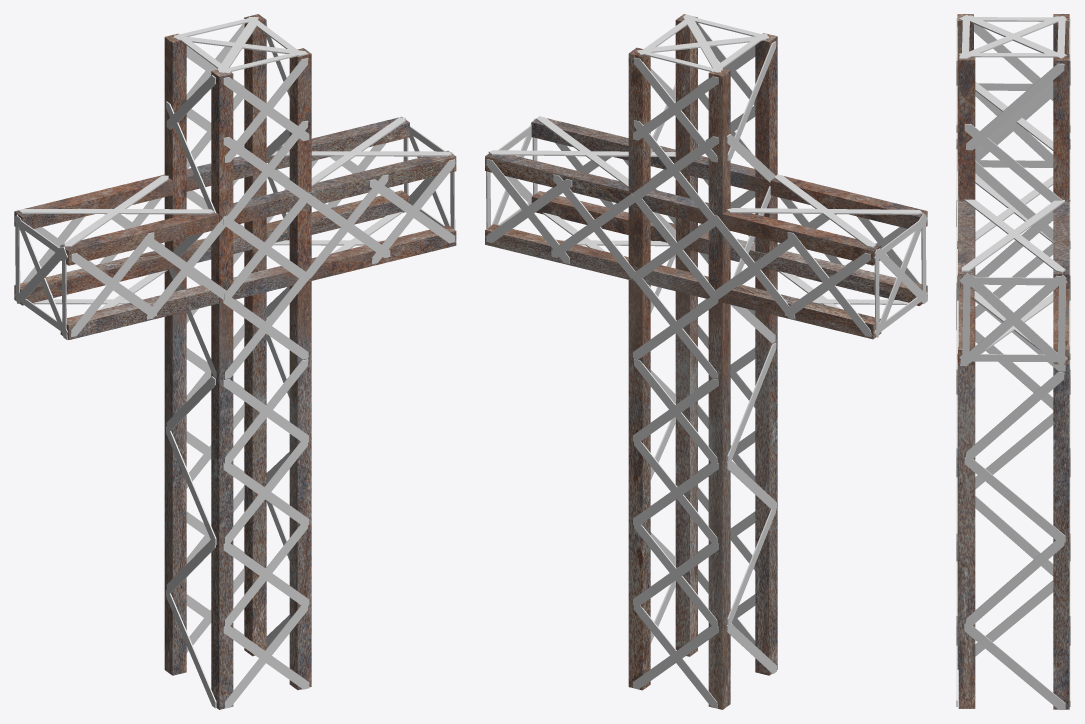
File: croceferro.fbx
The picture shows the model from 3 angles, left to right: view 1: azimuth 30°, elevation 25°; view 2: azimuth 150°, elevation 25°; view 3: azimuth 270°, elevation 25°; orthographic projection. The views are drawn at different scales.
Parts seen in each view (by area): view 1: Cube, Cube.001, Cube.003, Cube.002, Cube.005, Cube.007, Cube.004, Cube.006, Plane.027, Plane.032, Plane.020, Plane.087 (+28 smaller); view 2: Cube.001, Cube.002, Cube, Cube.003, Cube.004, Cube.006, Cube.005, Cube.007, Plane.003, Plane.040, Plane.016, Plane.014 (+29 smaller); view 3: Cube.003, Cube.002, Plane.073, Plane.071, Plane.074, Plane.072, Cube.005, Plane.060, Cube, Plane.059, Plane.077, Plane.076 (+35 smaller).
Boxes of the visible parts, bbox=[...] form: Cube: bbox=[211, 69, 233, 709]; Cube.001: bbox=[164, 33, 186, 675]; Cube.003: bbox=[289, 48, 311, 689]; Cube.002: bbox=[244, 14, 266, 656]; Cube.005: bbox=[60, 150, 456, 265]; Cube.007: bbox=[60, 225, 456, 339]; Cube.004: bbox=[14, 116, 409, 229]; Cube.006: bbox=[14, 190, 409, 305]; Plane.027: bbox=[224, 279, 307, 378]; Plane.032: bbox=[224, 605, 308, 708]; Plane.020: bbox=[224, 359, 308, 463]; Plane.087: bbox=[18, 209, 214, 214]; Cube.001: bbox=[708, 68, 730, 709]; Cube.002: bbox=[628, 47, 650, 690]; Cube: bbox=[755, 33, 777, 675]; Cube.003: bbox=[675, 14, 697, 656]; Cube.004: bbox=[485, 153, 881, 265]; Cube.006: bbox=[485, 224, 881, 339]; Cube.005: bbox=[531, 116, 927, 230]; Cube.007: bbox=[531, 191, 927, 305]; Plane.003: bbox=[633, 359, 717, 463]; Plane.040: bbox=[787, 232, 871, 336]; Plane.016: bbox=[633, 604, 717, 708]; Plane.014: bbox=[633, 439, 717, 543]; Cube.003: bbox=[958, 53, 975, 708]; Cube.002: bbox=[1053, 54, 1069, 709]; Plane.073: bbox=[964, 457, 1065, 542]; Plane.071: bbox=[964, 624, 1065, 709]; Plane.074: bbox=[966, 372, 1064, 458]; Plane.072: bbox=[966, 540, 1064, 625]; Cube.005: bbox=[958, 162, 974, 288]; Plane.060: bbox=[965, 274, 1058, 360]; Cube: bbox=[957, 14, 973, 669]; Plane.059: bbox=[960, 275, 1063, 365]; Plane.077: bbox=[966, 63, 1064, 150]; Plane.076: bbox=[964, 124, 1065, 202].
Size of the model in its own units: 9.89 by 15.37 by 2.45.
